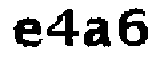4: (44, 7, 81, 48)
6: (116, 7, 150, 50)
a: (84, 17, 113, 50)
e: (12, 16, 42, 49)
